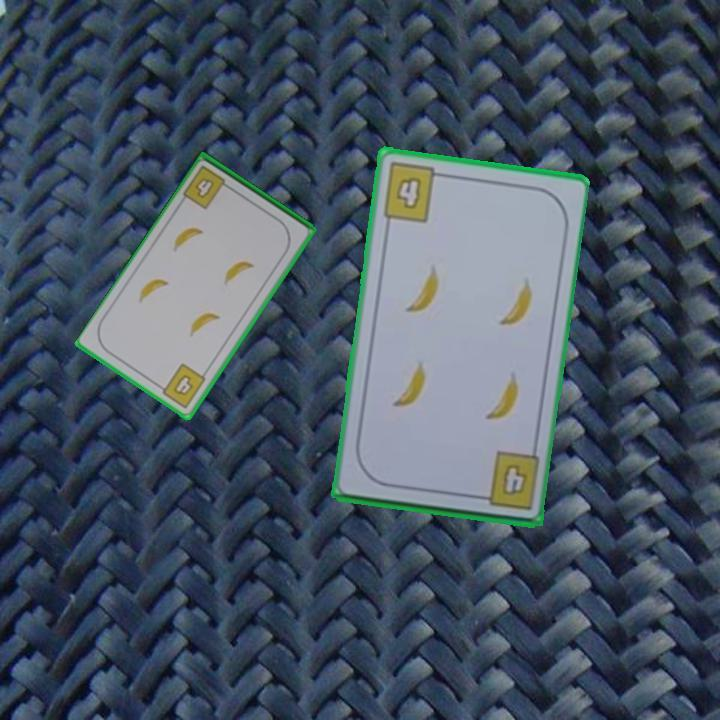4b: (471, 448, 543, 513), (378, 159, 448, 225), (154, 360, 209, 411), (180, 162, 235, 212)
